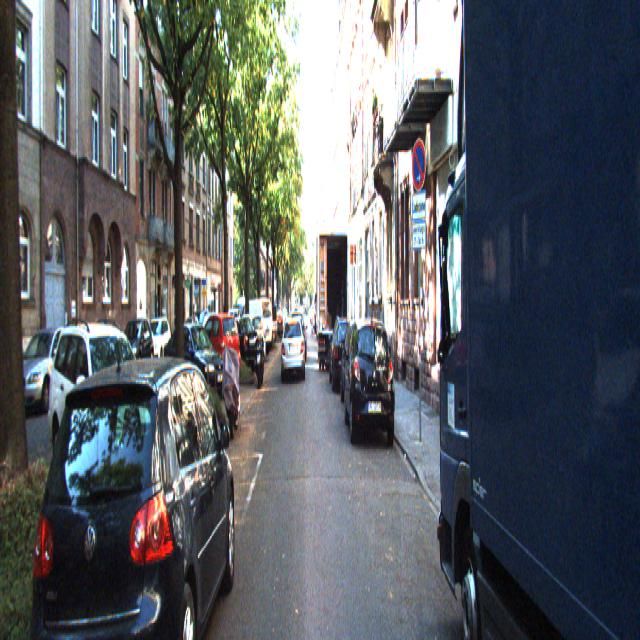Car: (432, 0, 598, 639), (15, 345, 239, 638), (49, 314, 168, 512), (0, 322, 83, 417), (344, 316, 396, 449), (162, 320, 231, 405), (316, 232, 349, 370), (191, 310, 243, 390), (211, 344, 247, 439), (340, 320, 373, 412), (216, 314, 261, 372), (328, 315, 359, 392), (238, 296, 274, 353), (233, 314, 267, 365), (281, 314, 305, 379), (289, 310, 306, 362), (252, 325, 266, 387)
